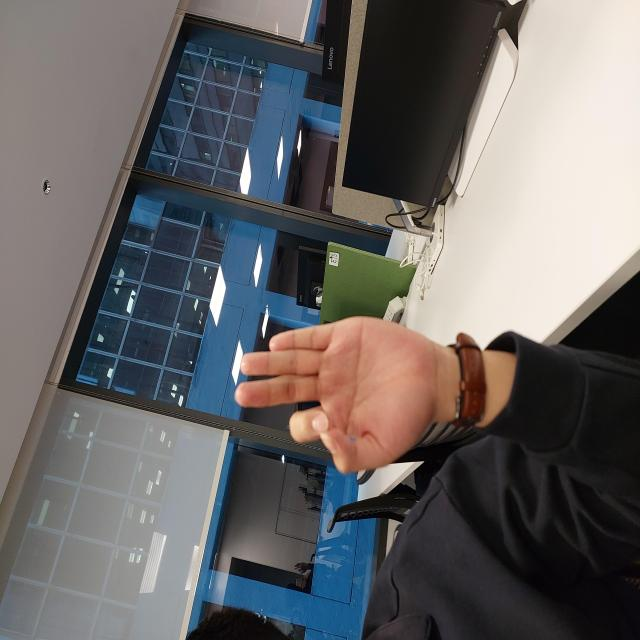F: (167, 233, 323, 433)
